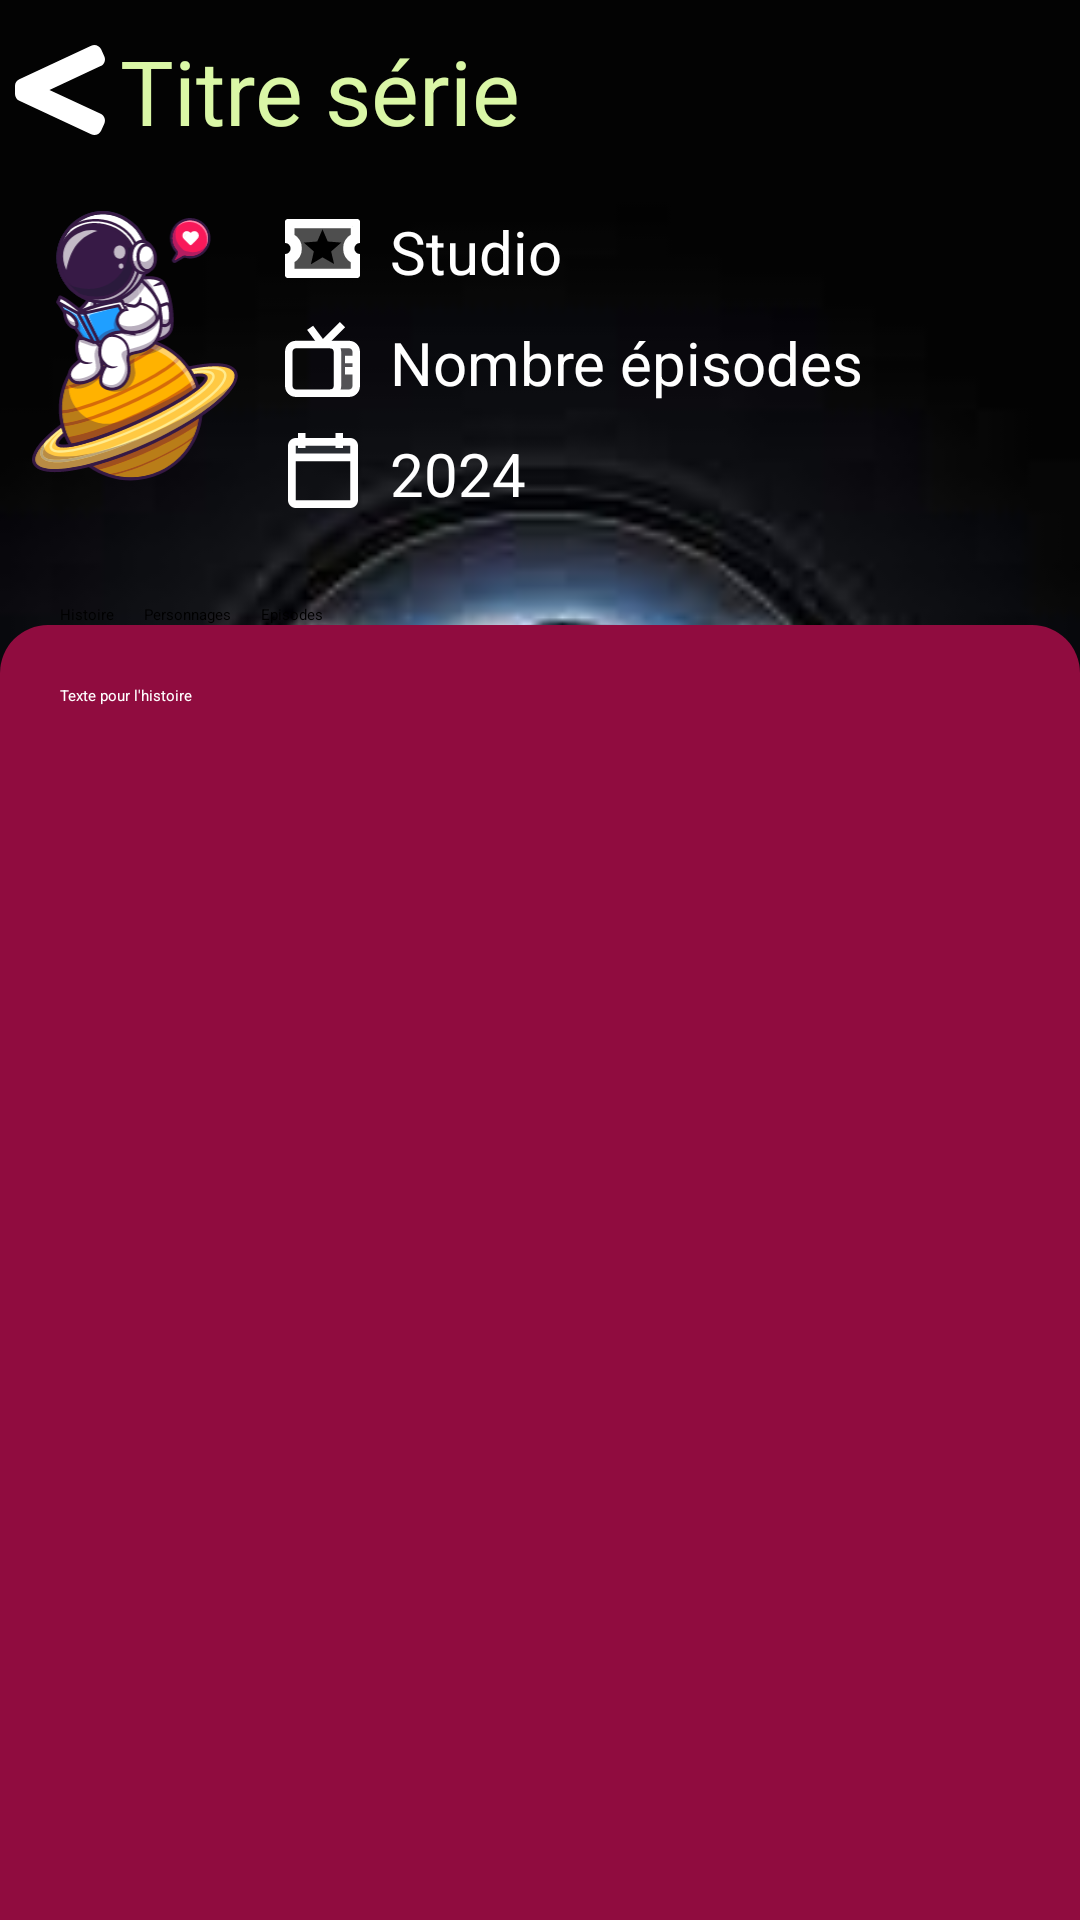

Where icons sit on this 1080x1920 app screen, as [x1=x1, y1=y1, x2=x2, y2=y2]:
astronaut: [x1=32, y1=211, x2=238, y2=481]
calendrier: [x1=288, y1=433, x2=358, y2=508]
less than: [x1=15, y1=45, x2=105, y2=135]
